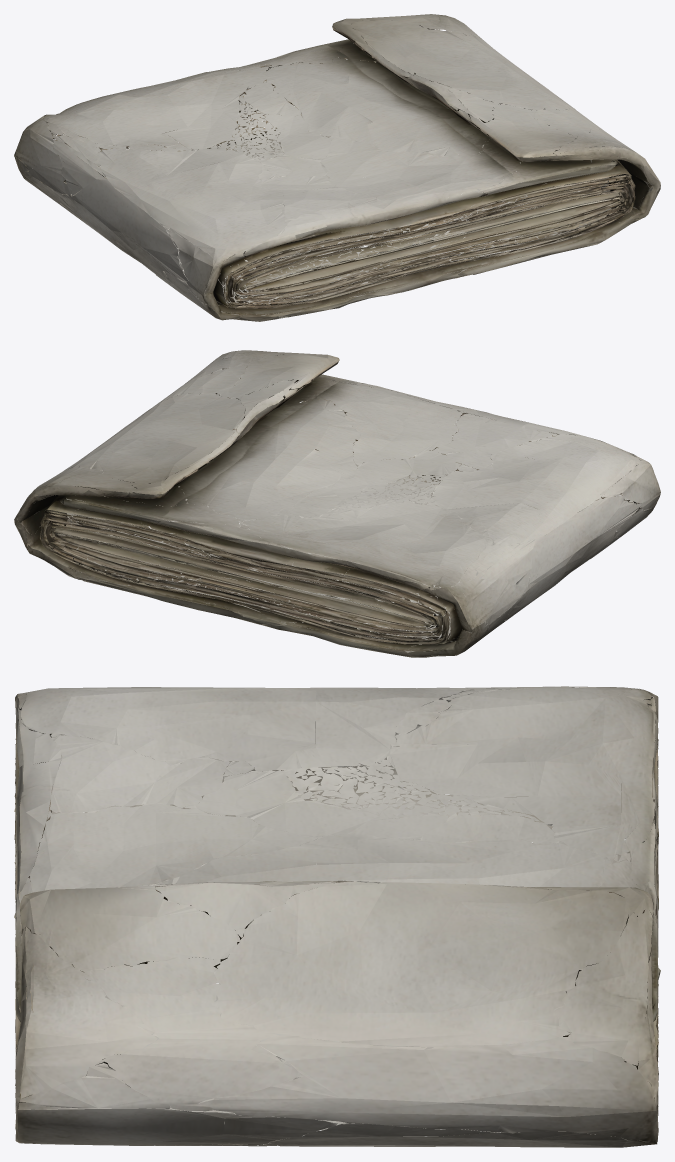
Rendered from unopened-fold-slim.glb.
3 renders of one model, top to bottom at view 1: azimuth 30°, elevation 25°; view 2: azimuth 150°, elevation 25°; view 3: azimuth 270°, elevation 25°, orthographic. The views are drawn at different scales.
Visible parts, largest first — view 1: node_0; view 2: node_0; view 3: node_0.
Boxes of the visible parts, box(x1,y1,x2,y2) form: node_0: box(14, 14, 660, 321); node_0: box(14, 350, 660, 657); node_0: box(14, 686, 660, 1147).
Bounding box in the file's own units: 0.977 × 0.2359 × 0.706.
Materials: 1 (1 with a texture image).
